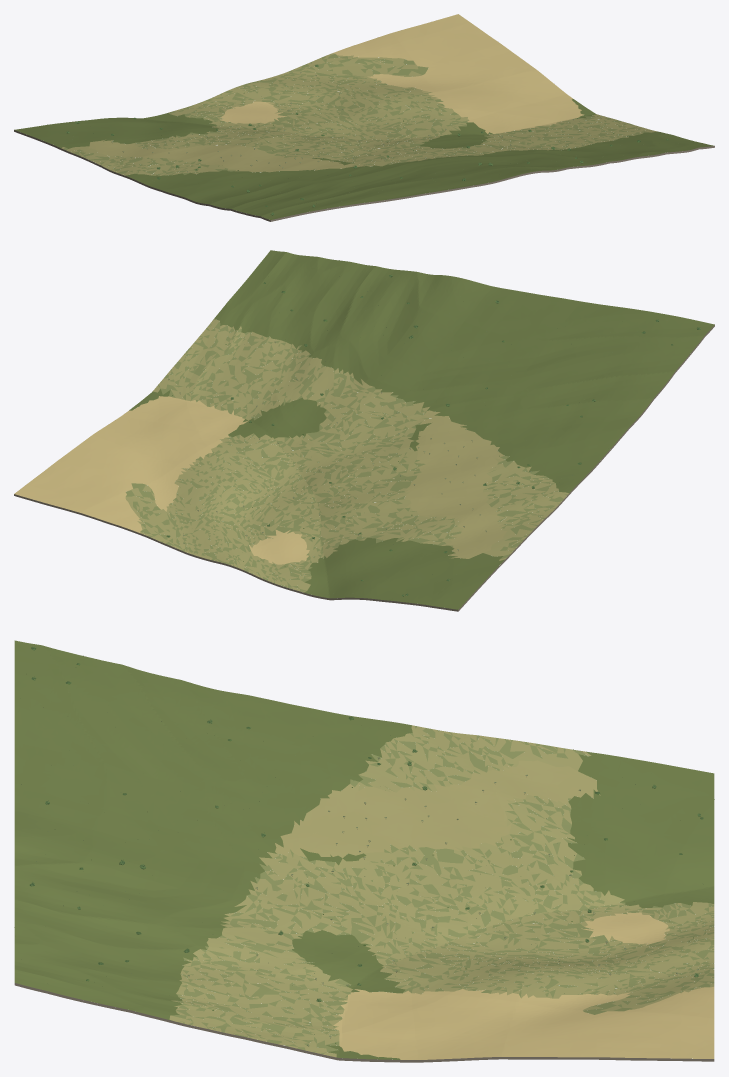
The model's file is parca_+7_+1-yakin.glb.
3 renders of one model, top to bottom at view 1: azimuth 30°, elevation 25°; view 2: azimuth 150°, elevation 25°; view 3: azimuth 270°, elevation 25°, orthographic. The views are drawn at different scales.
Visible parts, largest first — view 1: parca_+7_+1_arazi, parca_+7_+1_bitkiler; view 2: parca_+7_+1_arazi, parca_+7_+1_bitkiler; view 3: parca_+7_+1_arazi, parca_+7_+1_bitkiler.
Part boxes in pixels (x1,y1,x2,y2): parca_+7_+1_arazi: [14, 14, 714, 221]; parca_+7_+1_bitkiler: [47, 64, 668, 215]; parca_+7_+1_arazi: [14, 250, 714, 611]; parca_+7_+1_bitkiler: [166, 258, 700, 604]; parca_+7_+1_arazi: [14, 640, 714, 1062]; parca_+7_+1_bitkiler: [14, 647, 714, 1046].
Bounding box in the file's own units: 1000 × 259 × 1001.
